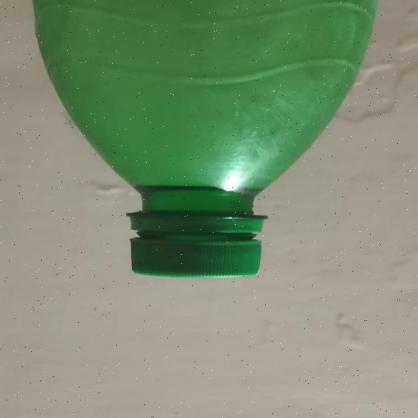cap: (132, 215, 262, 279)
